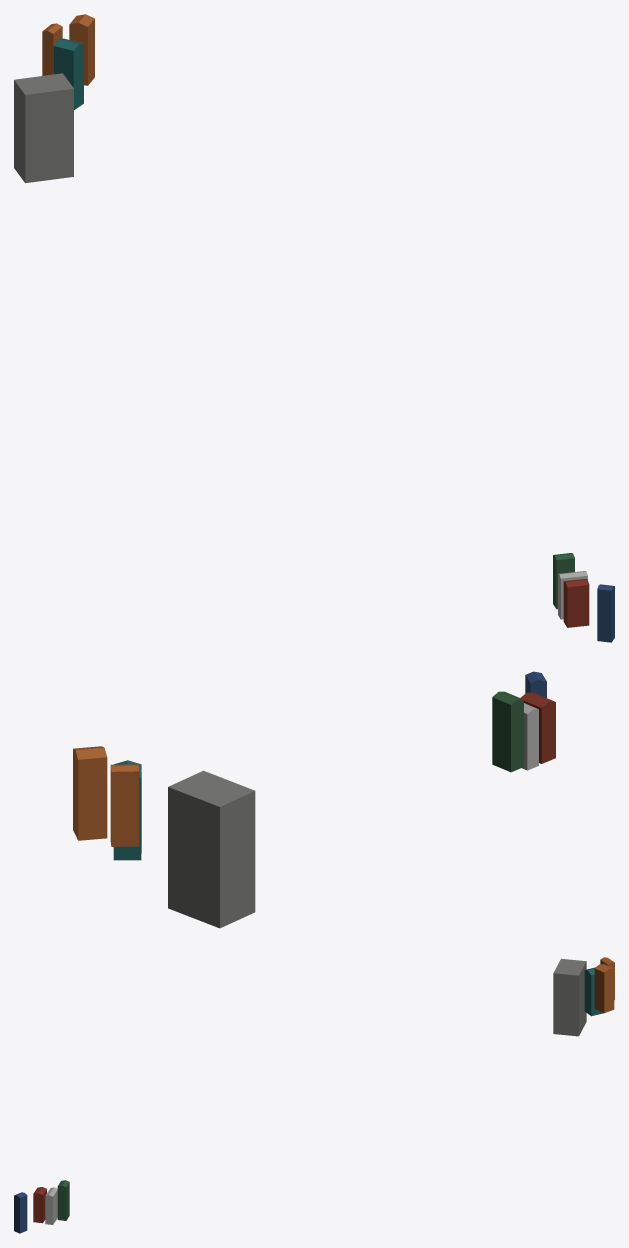
The model's file is near-15-27373-14870.6b96e876.glb.
3 views of the same model, one above another, from view 1: azimuth 30°, elevation 25°; view 2: azimuth 150°, elevation 25°; view 3: azimuth 270°, elevation 25° (orthographic). The views are drawn at different scales.
Size of the model in its own units: 66.55 by 108 by 256.
